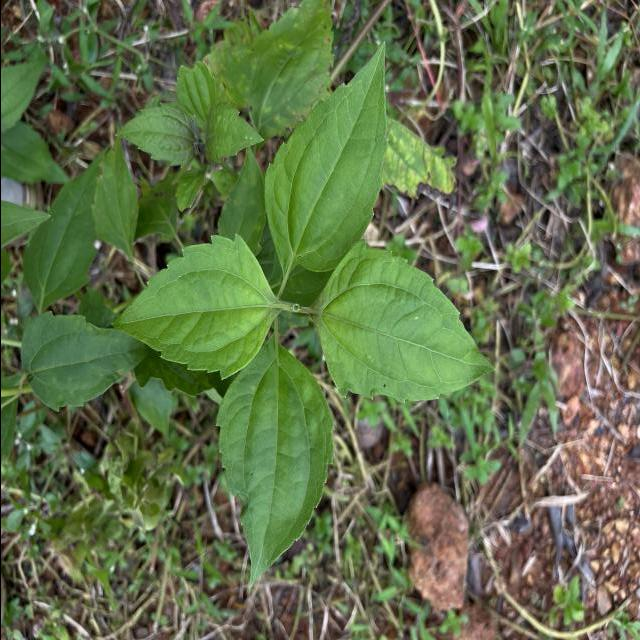Chromolaena odorata: (303, 236, 499, 407), (212, 327, 338, 590), (262, 37, 392, 282), (107, 230, 285, 384)
